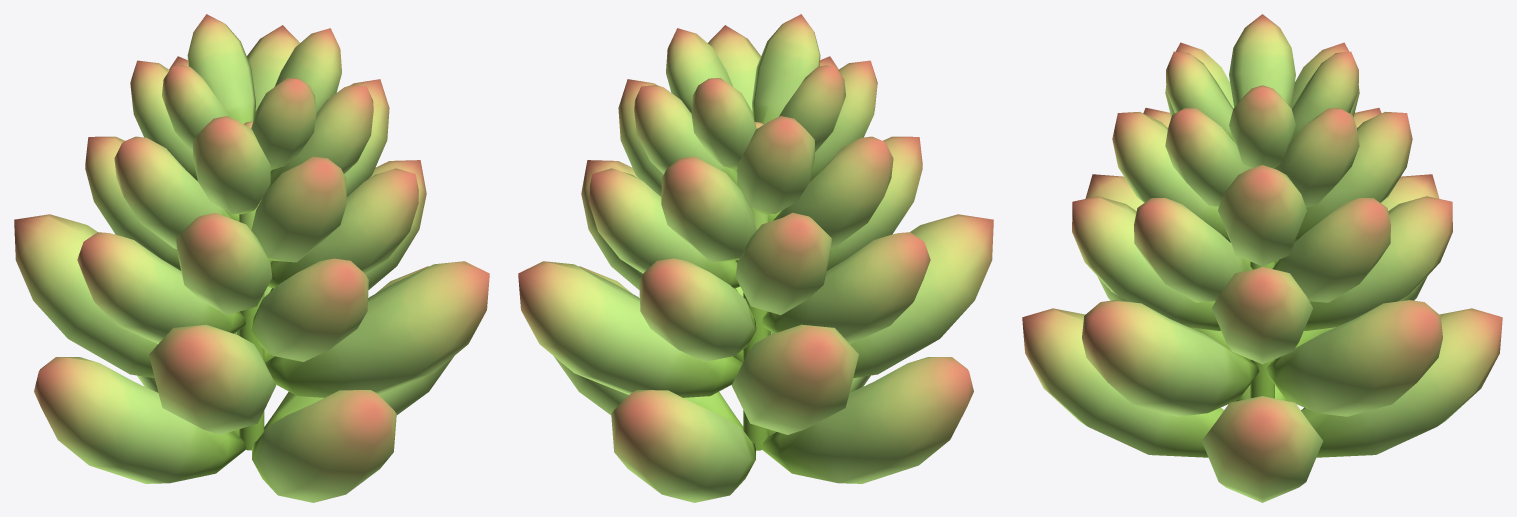
Rendered from Succulents_02_S.fbx.
3 views of the same model, side by side, from view 1: azimuth 30°, elevation 25°; view 2: azimuth 150°, elevation 25°; view 3: azimuth 270°, elevation 25° (orthographic). The views are drawn at different scales.
Parts seen in each view (by area): view 1: Object004; view 2: Object004; view 3: Object004.
Part boxes in pixels (<box>): Object004: <box>14,14,489,502</box>; Object004: <box>518,14,993,502</box>; Object004: <box>1022,14,1502,502</box>.
Bounding box in the file's own units: 52.3 × 48.75 × 52.3.
